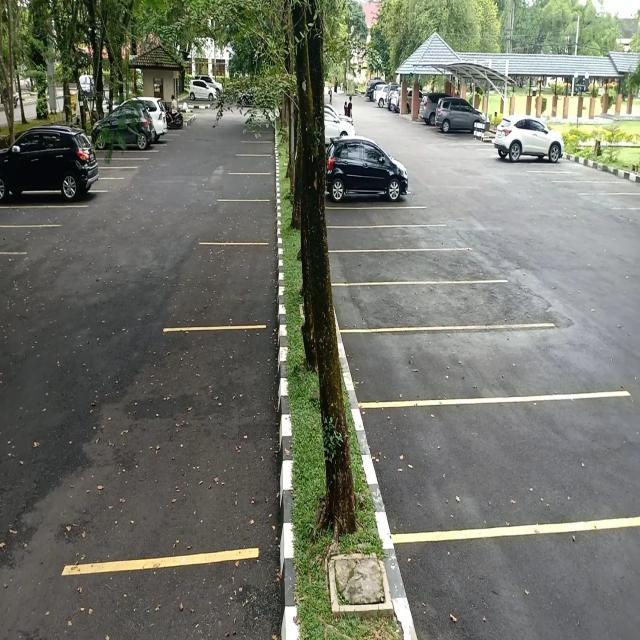empty: (125, 326, 275, 564), (377, 396, 592, 543), (349, 326, 536, 405), (335, 281, 500, 330), (192, 241, 276, 330), (330, 251, 462, 286), (212, 199, 274, 246), (327, 227, 428, 253), (325, 206, 421, 228), (0, 202, 73, 227), (229, 173, 272, 202)
occupied: (0, 137, 100, 209), (324, 146, 410, 209)
